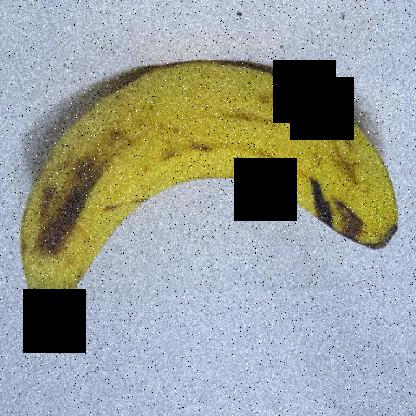ripe: (15, 60, 408, 349)
